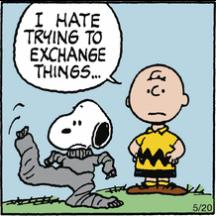charlie: (124, 61, 190, 197)
snoopy: (13, 98, 124, 208)
